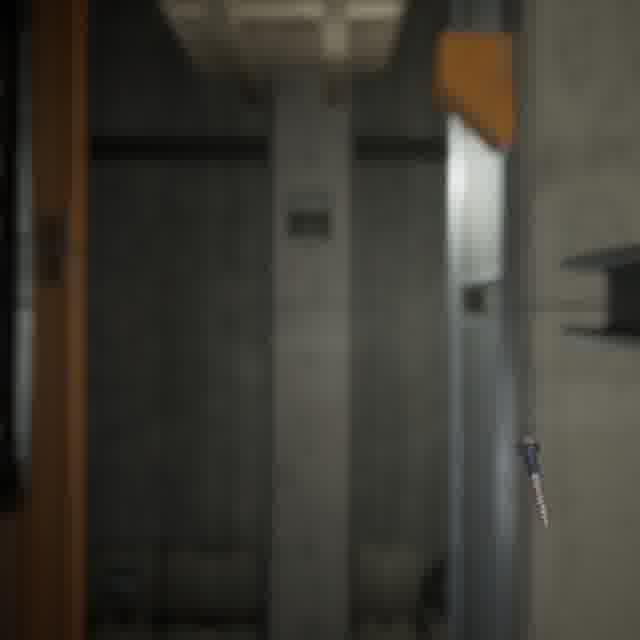bolt: (511, 432, 554, 533)
